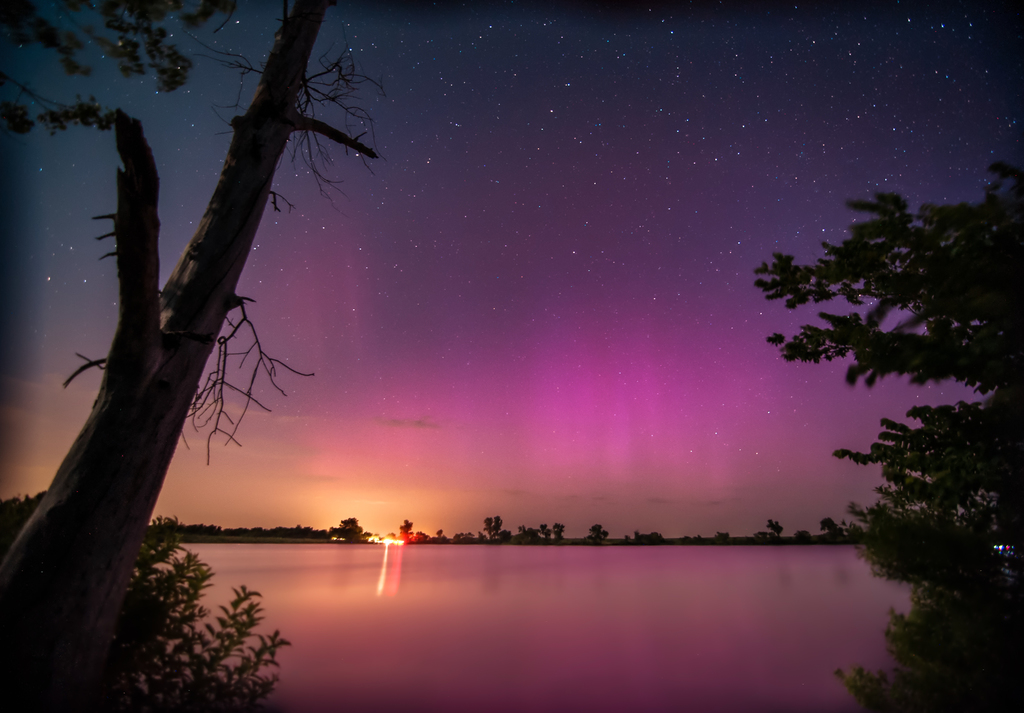Tree: (0, 0, 393, 693), (759, 163, 1023, 712), (480, 516, 511, 542), (519, 525, 562, 542), (588, 521, 605, 542)
